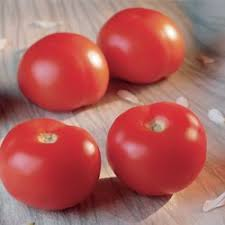tomato: (112, 114, 222, 205), (10, 119, 96, 207), (14, 29, 102, 114), (96, 9, 185, 84)
